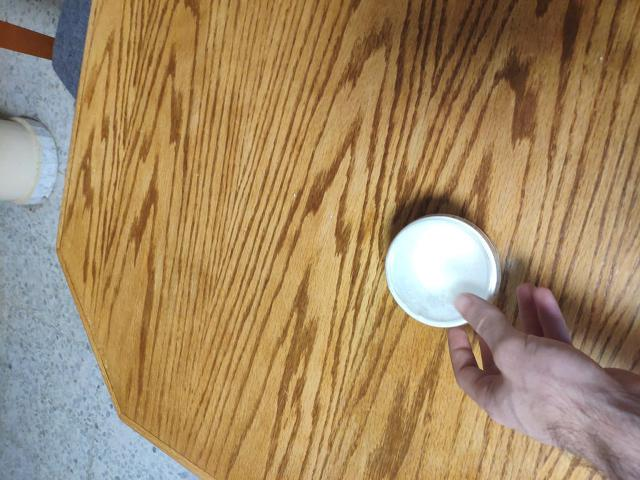cotage: (384, 220, 508, 340)
